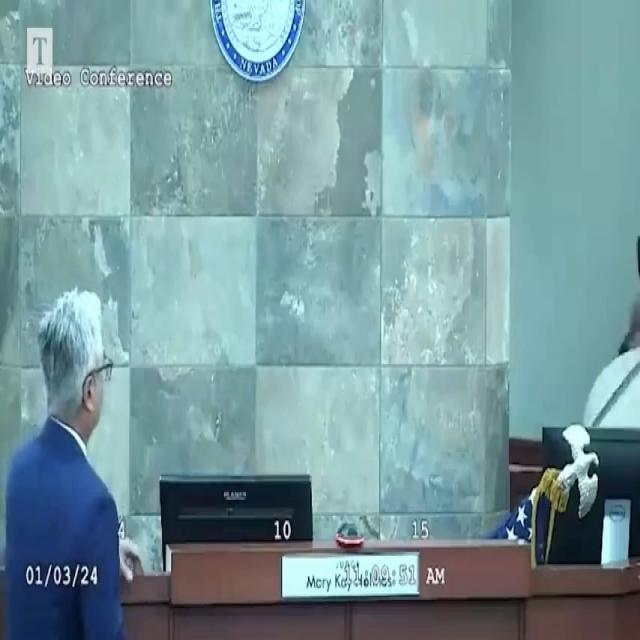non-fight: (5, 286, 131, 640)
